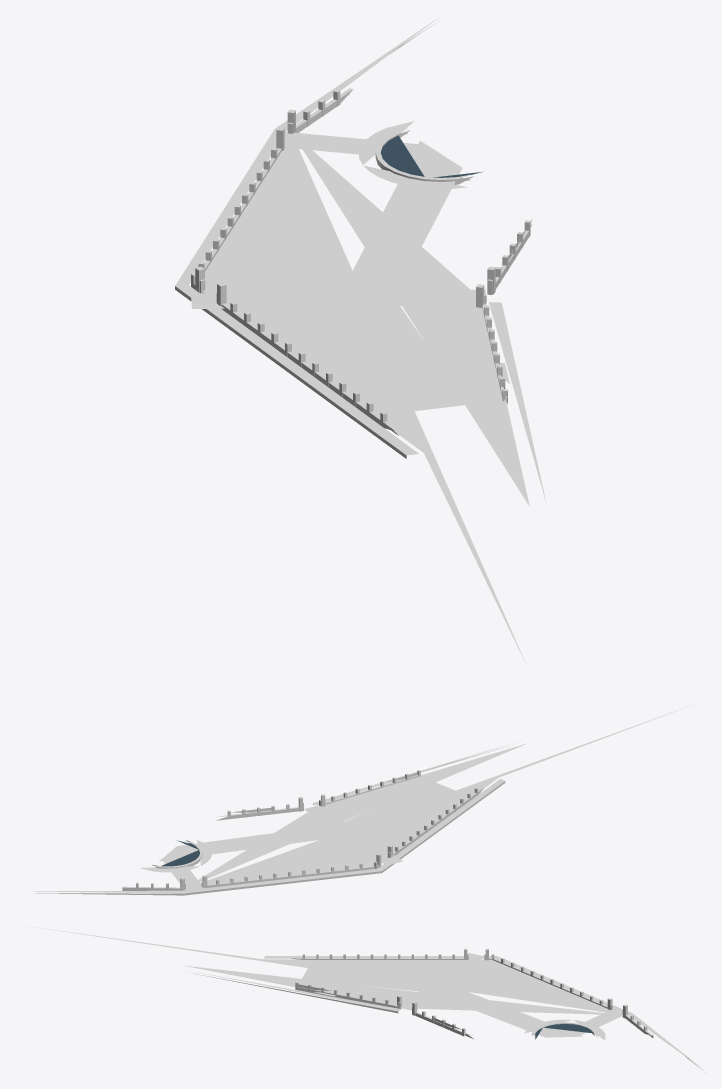
The picture shows the model from 3 angles, top to bottom: view 1: azimuth 30°, elevation 25°; view 2: azimuth 150°, elevation 25°; view 3: azimuth 270°, elevation 25°; orthographic projection. The views are drawn at different scales.
Visible parts, largest first — view 1: spb-ground.lawn@-18,15, spb-ground.sand@-18,15, spb-ground.coping@-18,15, spb-ground.walk@-18,15, spb-ground.water@-18,15; view 2: spb-ground.lawn@-18,15, spb-ground.sand@-18,15, spb-ground.coping@-18,15, spb-ground.walk@-18,15; view 3: spb-ground.lawn@-18,15, spb-ground.sand@-18,15, spb-ground.coping@-18,15, spb-ground.walk@-18,15, spb-ground.water@-18,15.
Boxes of the visible parts, <box> form: spb-ground.lawn@-18,15: <box>202,147,529,669</box>; spb-ground.sand@-18,15: <box>190,121,485,411</box>; spb-ground.coping@-18,15: <box>191,88,532,435</box>; spb-ground.walk@-18,15: <box>175,16,546,502</box>; spb-ground.water@-18,15: <box>381,135,483,177</box>; spb-ground.lawn@-18,15: <box>198,704,694,884</box>; spb-ground.sand@-18,15: <box>140,782,454,892</box>; spb-ground.coping@-18,15: <box>122,770,483,890</box>; spb-ground.walk@-18,15: <box>33,743,510,895</box>; spb-ground.lawn@-18,15: <box>22,925,609,1014</box>; spb-ground.sand@-18,15: <box>301,953,629,1039</box>; spb-ground.coping@-18,15: <box>291,948,653,1038</box>; spb-ground.walk@-18,15: <box>186,956,704,1070</box>; spb-ground.water@-18,15: <box>535,1024,593,1039</box>.
Bounding box in the file's own units: 76.18 × 2.9 × 151.
